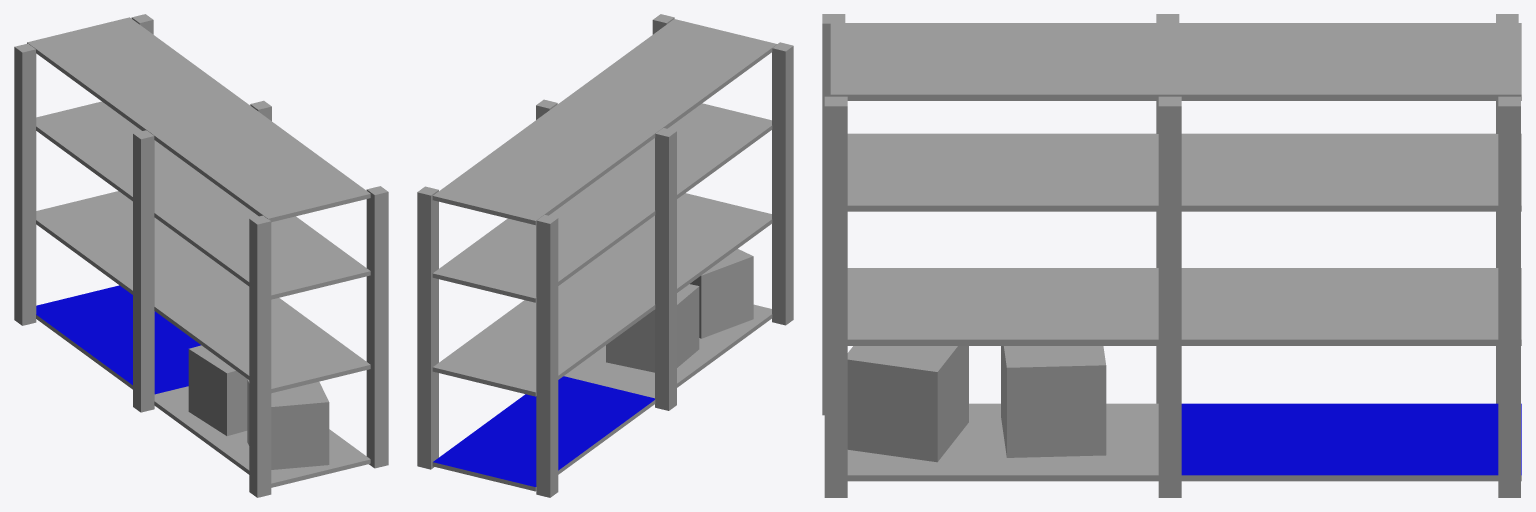
The model's file is IndustrialRack.fbx.
3 views of the same model, side by side, from view 1: azimuth 30°, elevation 25°; view 2: azimuth 150°, elevation 25°; view 3: azimuth 270°, elevation 25° (orthographic). The views are drawn at different scales.
Visible parts, largest first — view 1: IndustrialRack; view 2: IndustrialRack; view 3: IndustrialRack.
Boxes of the visible parts, bbox=[...] form: IndustrialRack: bbox=[14, 14, 388, 497]; IndustrialRack: bbox=[417, 14, 793, 497]; IndustrialRack: bbox=[822, 14, 1521, 497].
Size of the model in its own units: 3.22 by 6.39 by 10.32.
